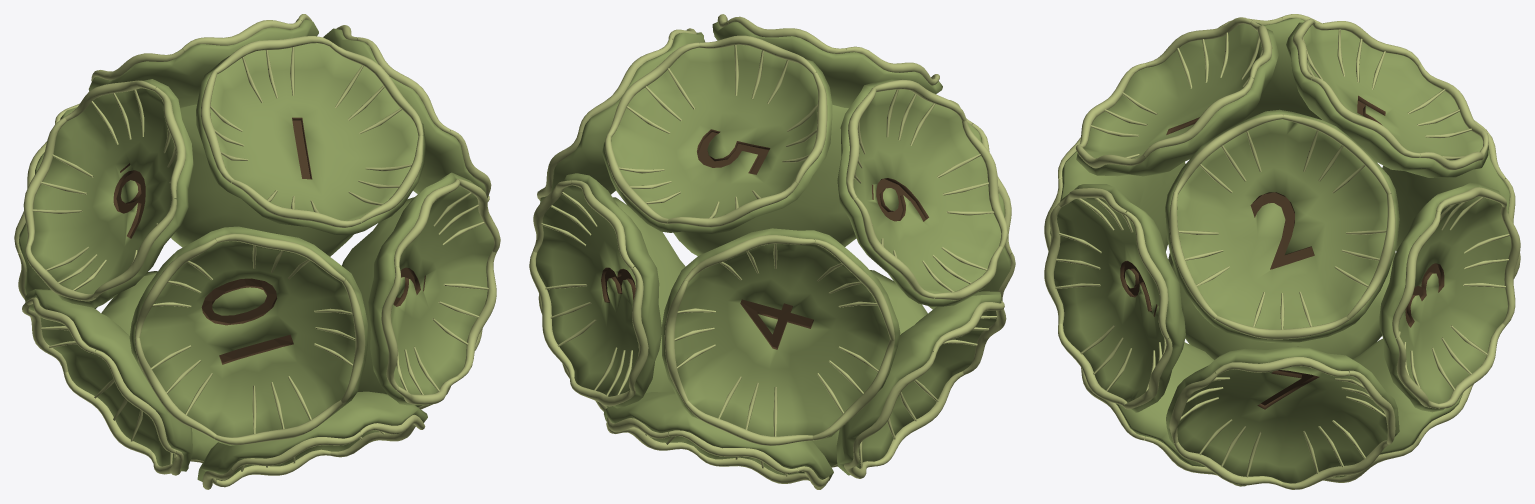
3 views of the same model, side by side, from view 1: azimuth 30°, elevation 25°; view 2: azimuth 150°, elevation 25°; view 3: azimuth 270°, elevation 25° (orthographic).
Visible parts, largest first — view 1: woodland sculpted d12 canonical die-only; view 2: woodland sculpted d12 canonical die-only; view 3: woodland sculpted d12 canonical die-only.
Part boxes in pixels (left/top/right/bottom): woodland sculpted d12 canonical die-only: left=14, top=14, right=500, bottom=489; woodland sculpted d12 canonical die-only: left=529, top=14, right=1015, bottom=489; woodland sculpted d12 canonical die-only: left=1044, top=14, right=1520, bottom=489.
Bounding box in the file's own units: 2.02 × 2.02 × 2.02.
